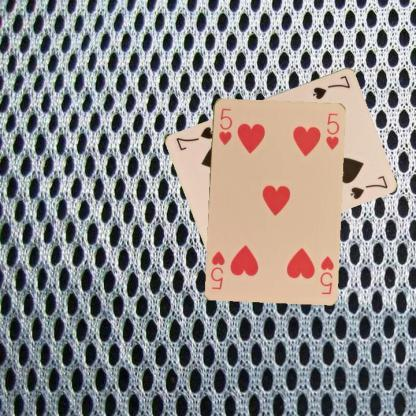5h: (317, 253, 335, 295), (216, 105, 234, 146)
7s: (310, 73, 352, 100)
